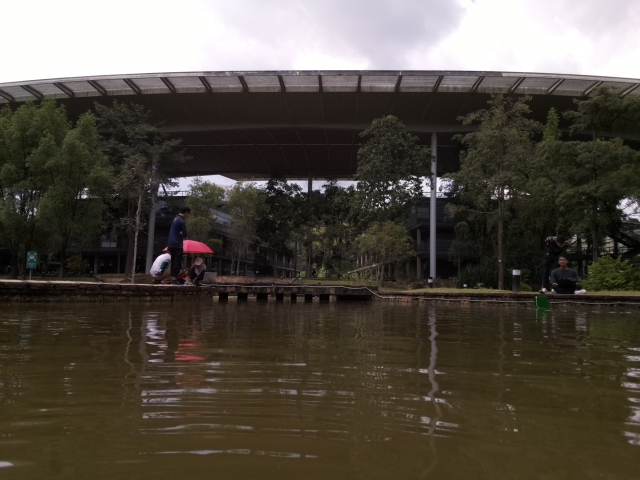obstacle: (533, 295, 550, 310)
